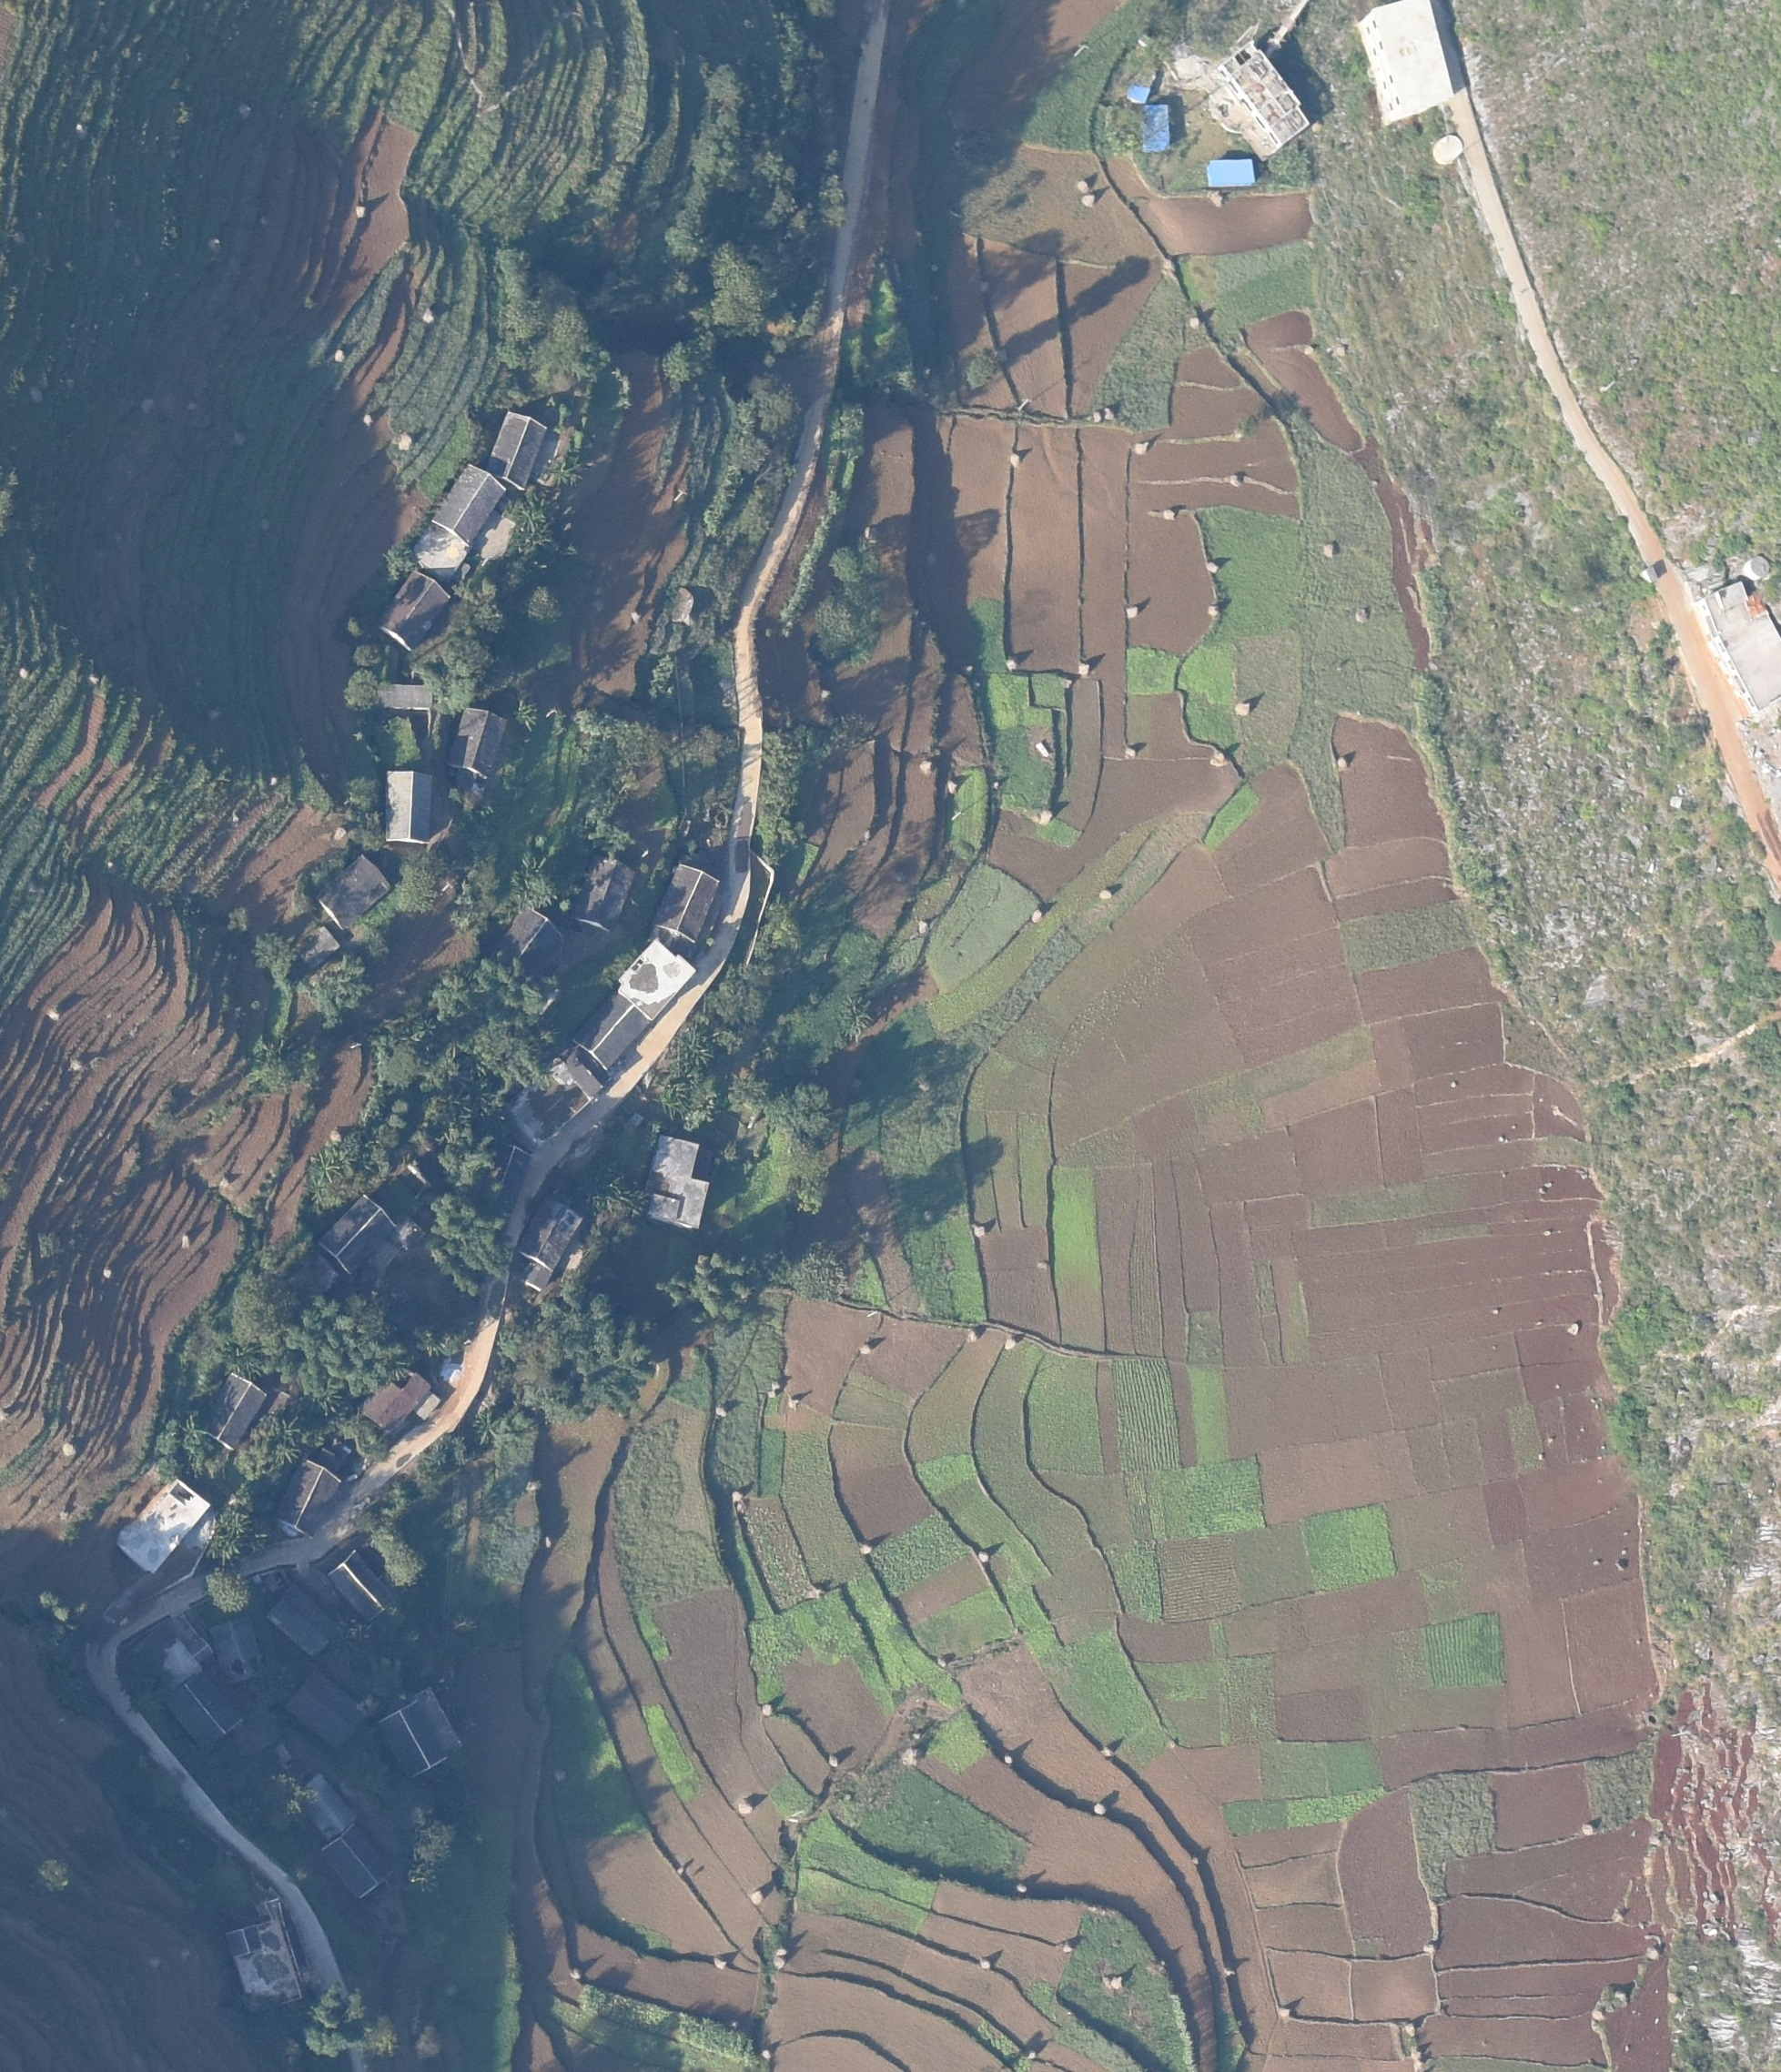building: (1201, 44, 1309, 159), (1693, 581, 1781, 715), (1360, 2, 1453, 125), (227, 1899, 307, 2009), (511, 1055, 604, 1147), (116, 1480, 206, 1573), (379, 1691, 456, 1781), (430, 463, 507, 548), (381, 567, 453, 654), (618, 943, 698, 1020), (520, 1196, 583, 1291), (574, 987, 650, 1064), (359, 1369, 442, 1439), (648, 1135, 710, 1228), (321, 1196, 395, 1272), (167, 1669, 240, 1746), (314, 858, 391, 929), (317, 1825, 395, 1896), (270, 1586, 345, 1656), (203, 1373, 270, 1450), (285, 1672, 365, 1737), (655, 863, 719, 941), (278, 1462, 342, 1538), (484, 411, 543, 488), (451, 703, 507, 782), (574, 858, 632, 934), (384, 766, 437, 847), (500, 907, 562, 976), (331, 1550, 391, 1617), (292, 1774, 352, 1836), (412, 525, 467, 585), (483, 1136, 527, 1209), (210, 1619, 259, 1683), (372, 682, 435, 715), (296, 927, 338, 967), (1637, 564, 1661, 585)
cable-tower: (1013, 395, 1036, 412), (671, 488, 689, 504)
prefabricated-house: (1142, 104, 1173, 152), (1207, 159, 1254, 187), (1129, 83, 1149, 104)
well: (1434, 134, 1462, 166), (1744, 555, 1770, 583)
